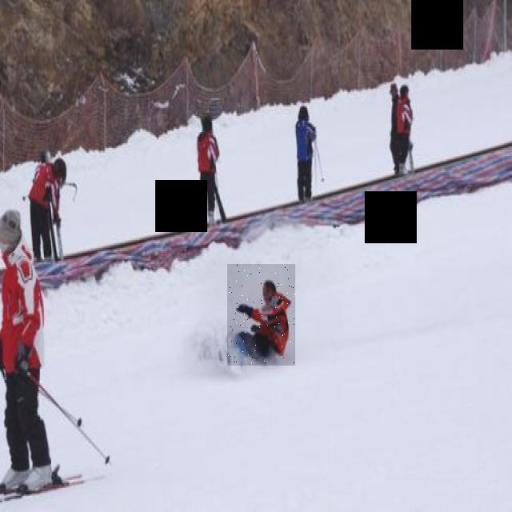Fall: (227, 264, 295, 366)
